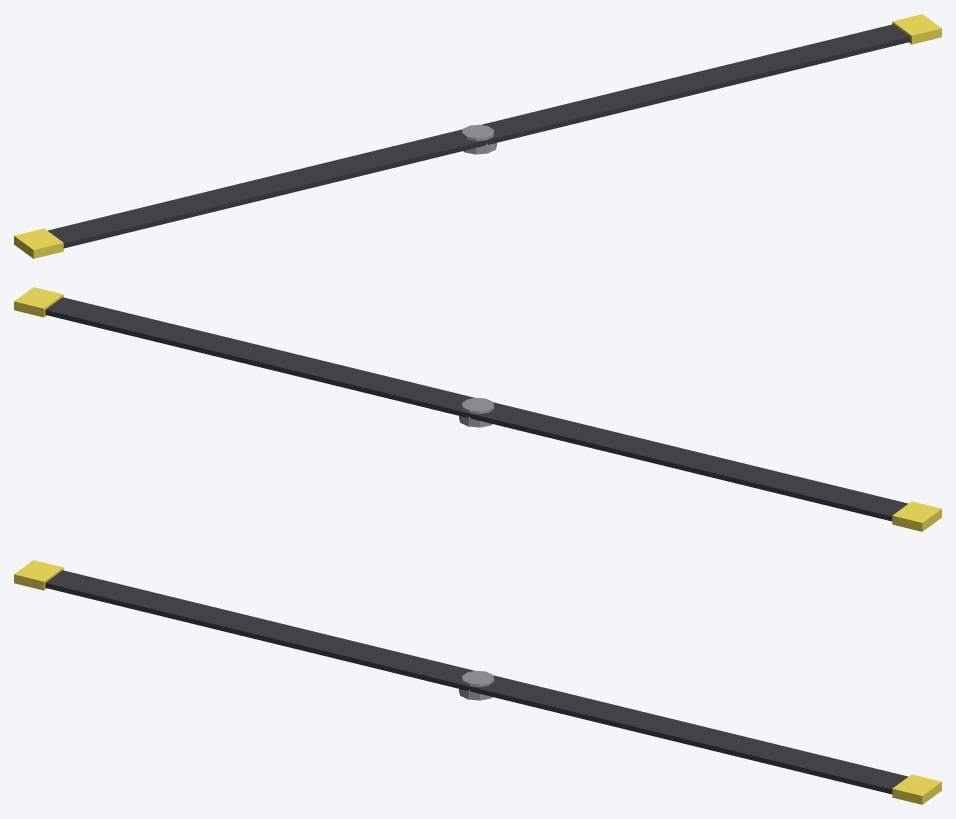
File: HJ_Rotor.fbx
3 renders of one model, top to bottom at view 1: azimuth 30°, elevation 25°; view 2: azimuth 150°, elevation 25°; view 3: azimuth 330°, elevation 25°, orthographic.
Parts seen in each view (by area): view 1: HJ_Rotor; view 2: HJ_Rotor; view 3: HJ_Rotor.
Boxes of the visible parts, x1,y1,x2,y2 form: HJ_Rotor: (14,14,941,258); HJ_Rotor: (14,287,941,531); HJ_Rotor: (14,560,941,804).
Size of the model in its own units: 9.64 by 0.15 by 0.36.
